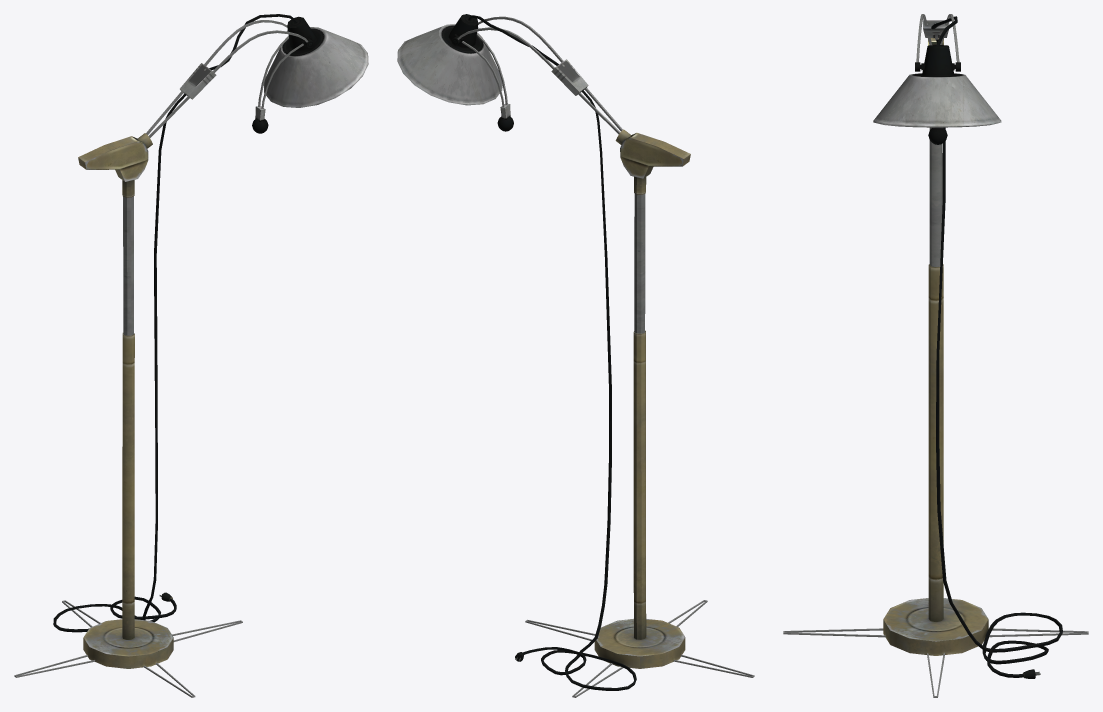
Rendered from Medical_FloorLamp_01.fbx.
3 views of the same model, side by side, from view 1: azimuth 30°, elevation 25°; view 2: azimuth 150°, elevation 25°; view 3: azimuth 270°, elevation 25° (orthographic). The views are drawn at different scales.
Visible parts, largest first — view 1: Medical_FloorLamp_01; view 2: Medical_FloorLamp_01; view 3: Medical_FloorLamp_01.
Boxes of the visible parts, box(x1,y1,x2,y2) form: Medical_FloorLamp_01: box(14, 14, 368, 697); Medical_FloorLamp_01: box(397, 14, 754, 697); Medical_FloorLamp_01: box(783, 14, 1088, 697).
Bounding box in the file's own units: 108 × 177 × 70.5.
Materials: 1 (1 with a texture image).
